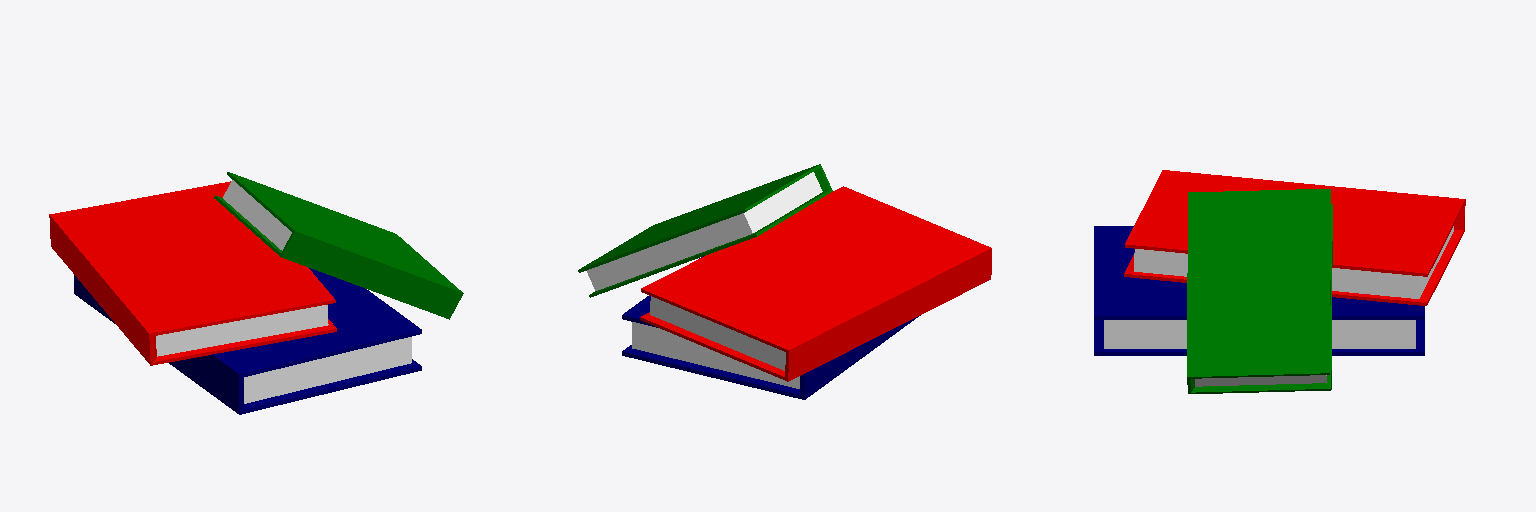
File: stackOfBooksObj.obj
3 renders of one model, left to right at view 1: azimuth 30°, elevation 25°; view 2: azimuth 150°, elevation 25°; view 3: azimuth 270°, elevation 25°, orthographic.
Parts seen in each view (by area): view 1: Book, Book1, Book2; view 2: Book, Book2, Book1; view 3: Book2, Book, Book1.
Boxes of the visible parts, <box> form: Book: <box>49,181,336,365</box>; Book1: <box>74,268,421,414</box>; Book2: <box>214,172,463,319</box>; Book: <box>640,186,991,381</box>; Book2: <box>578,164,832,297</box>; Book1: <box>622,238,969,399</box>; Book2: <box>1187,189,1332,393</box>; Book: <box>1124,170,1465,305</box>; Book1: <box>1094,226,1424,355</box>.
Bounding box in the file's own units: 8.54 × 3.27 × 8.3.